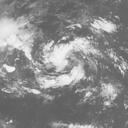cyclone: (40, 38, 97, 75)
